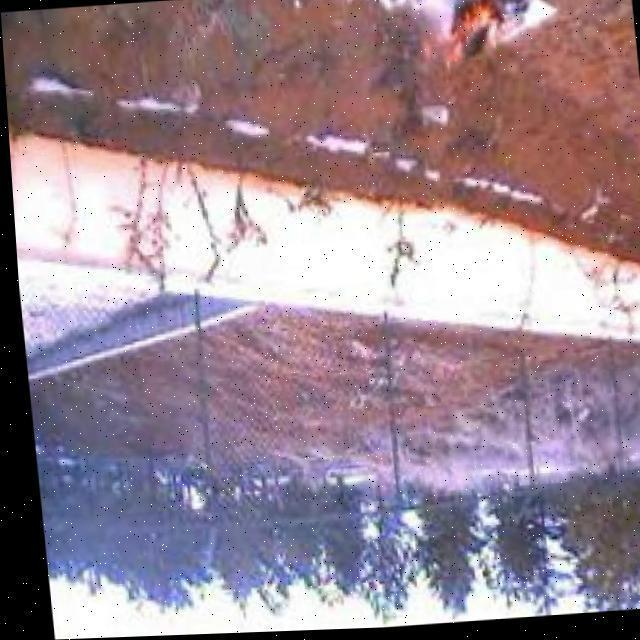fire: (408, 0, 532, 83)
